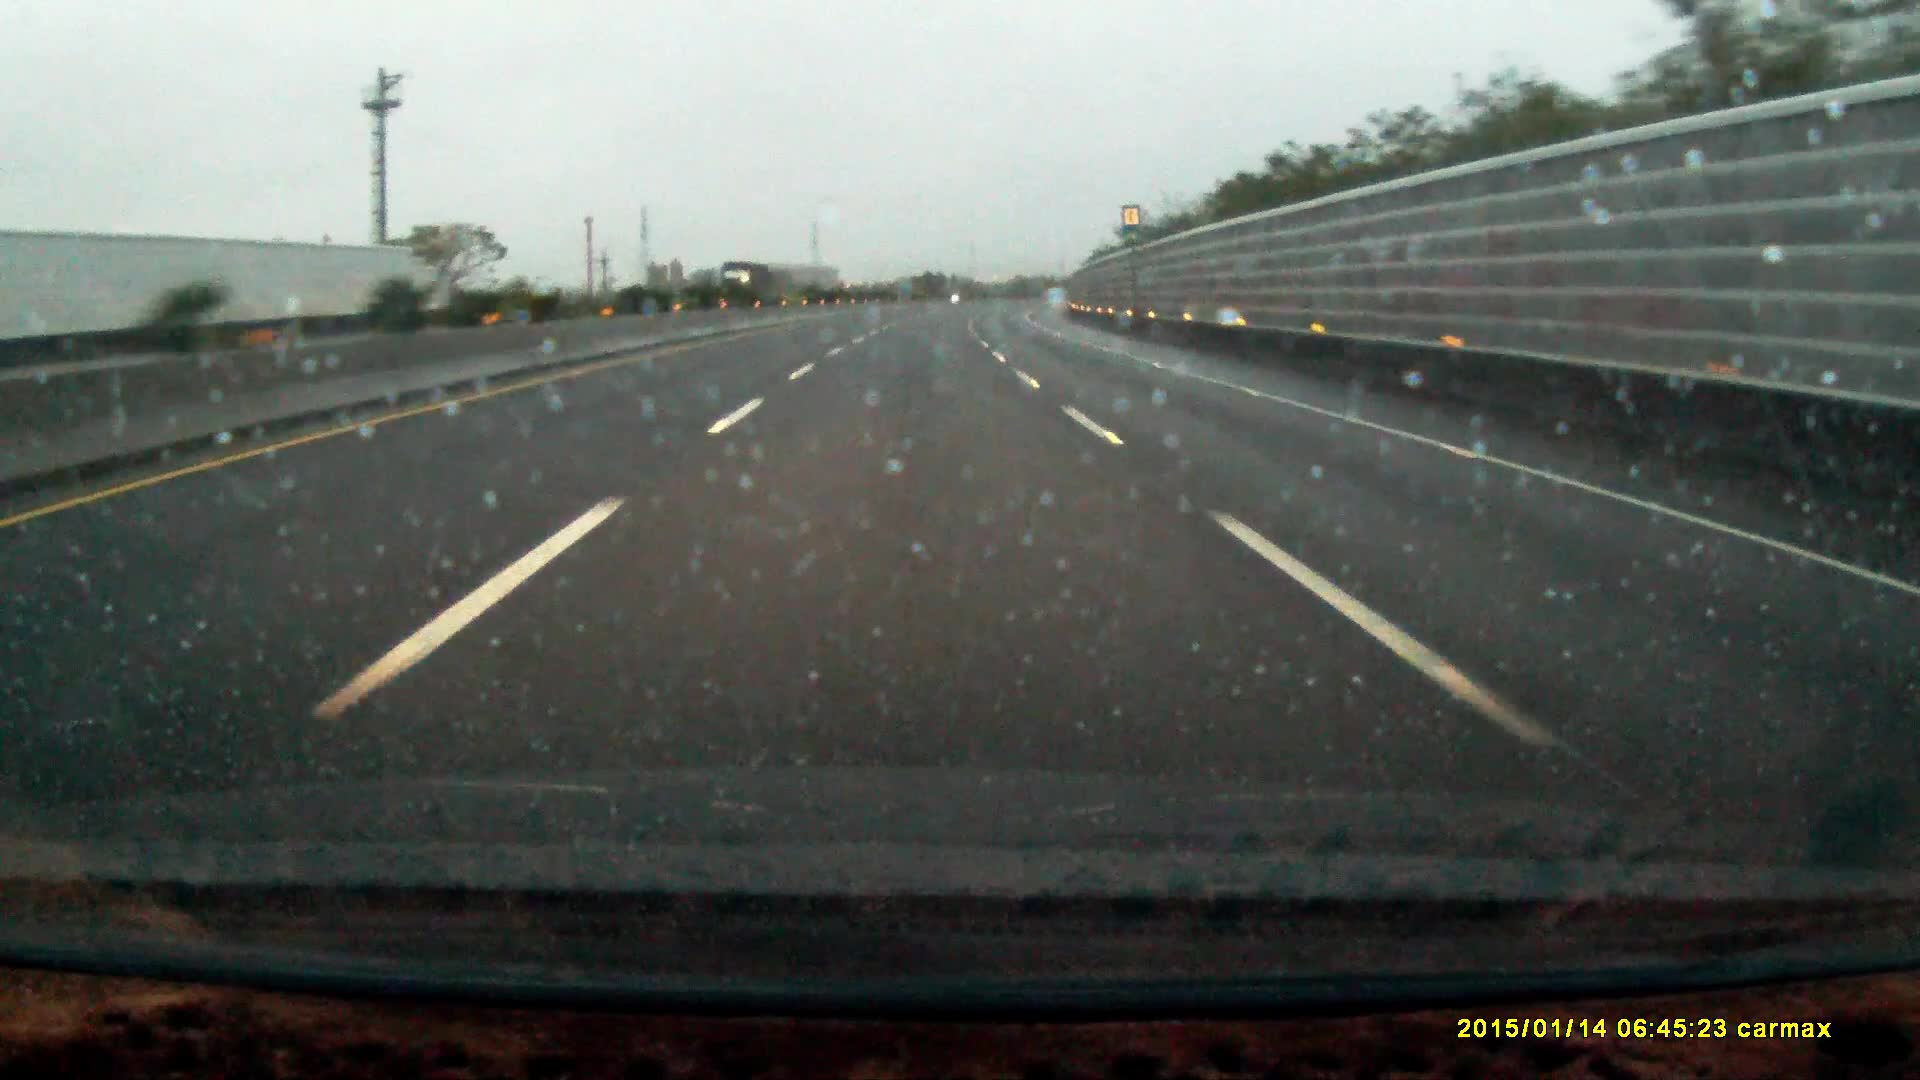vehicle: (720, 262, 770, 301)
